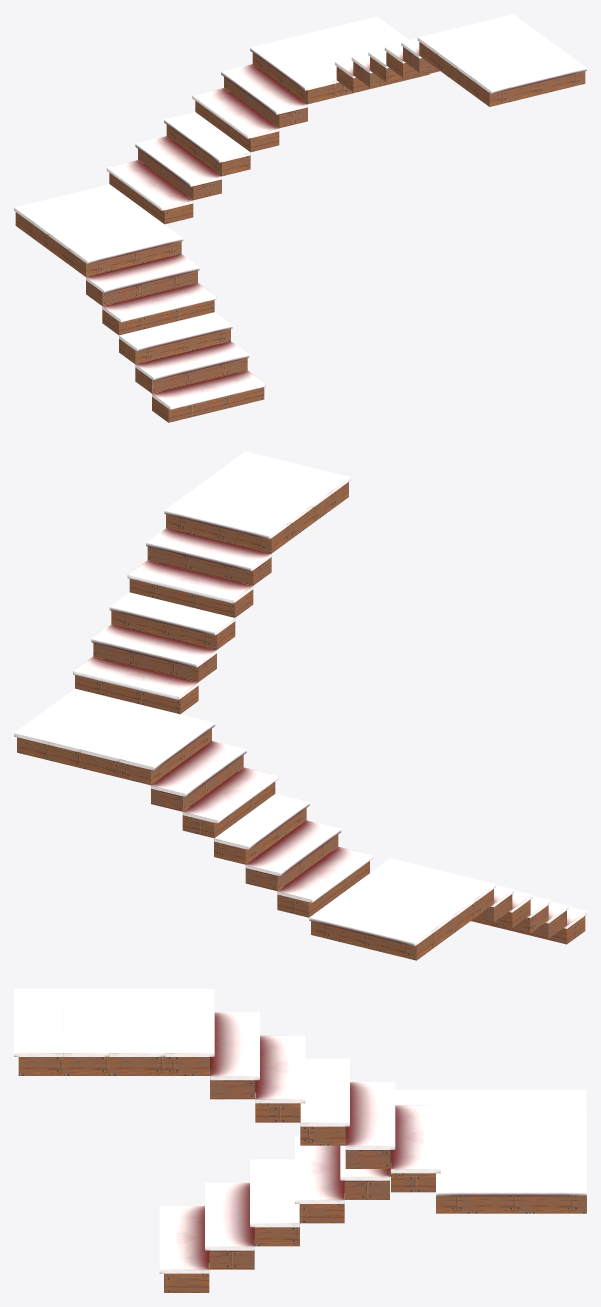
File: 309f7475-5621-4650-9c0d-fee3a6cc1c07.glb
The picture shows the model from 3 angles, top to bottom: view 1: azimuth 30°, elevation 25°; view 2: azimuth 150°, elevation 25°; view 3: azimuth 270°, elevation 25°; orthographic projection. The views are drawn at different scales.
Visible parts, largest first — view 1: Stairs.002; view 2: Stairs.002; view 3: Stairs.002.
Boxes of the visible parts, x1,y1,x2,y2 form: Stairs.002: (14, 14, 586, 422); Stairs.002: (14, 451, 586, 960); Stairs.002: (14, 989, 586, 1292).
Size of what is drawn, in the model's own units: 7.59 by 6.12 by 7.59.
2 materials, 2 textured.
